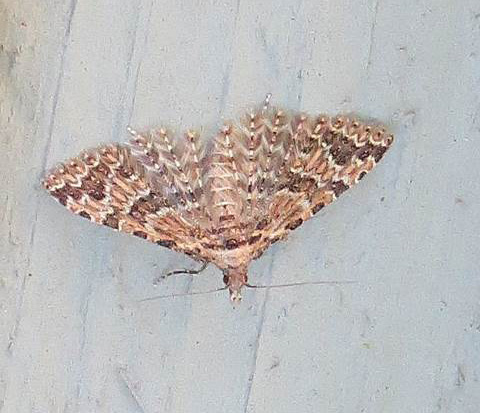Alucitidae: (42, 93, 393, 307)
moth: (40, 91, 391, 305)
